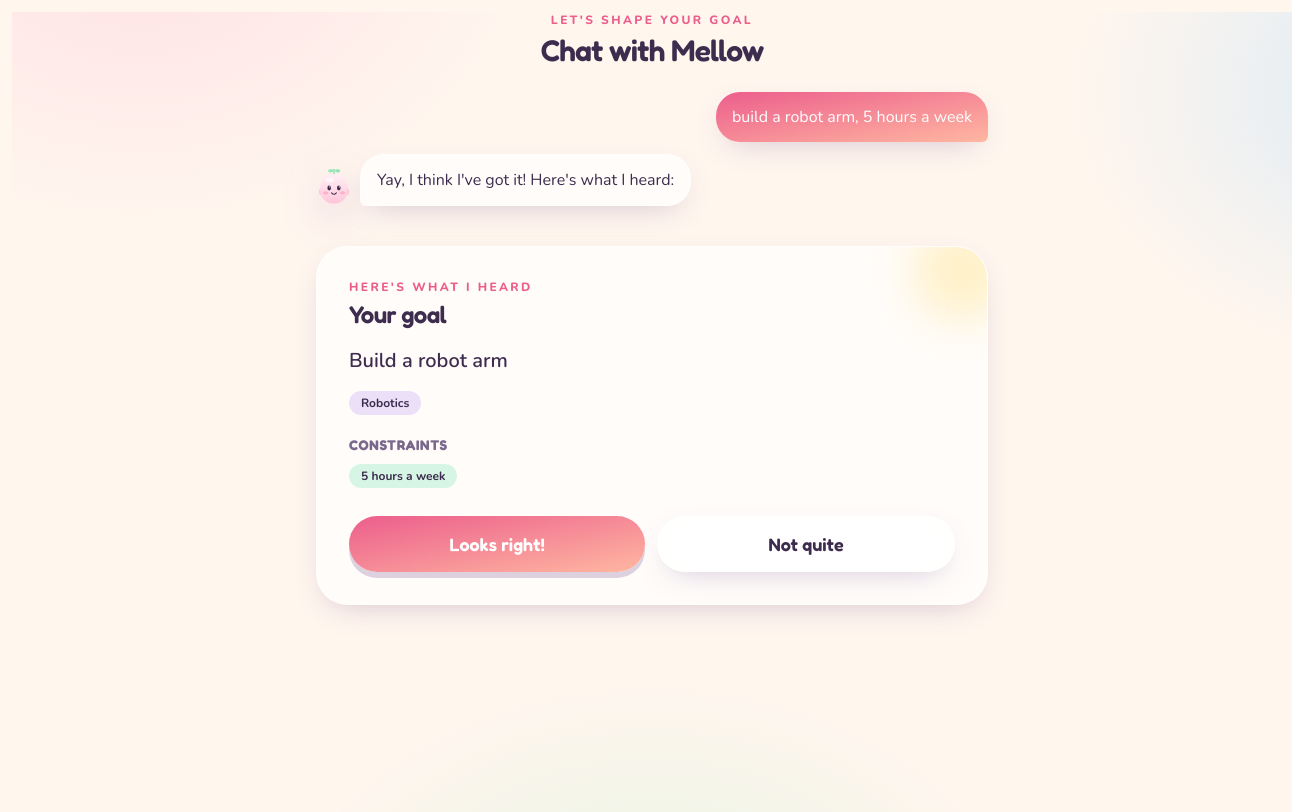
goal drafts › clears the draft once the goal is confirmed
This screenshot has width=1292, height=812.
Click the button "Looks right!" at [497, 544], box [349,516,645,572]
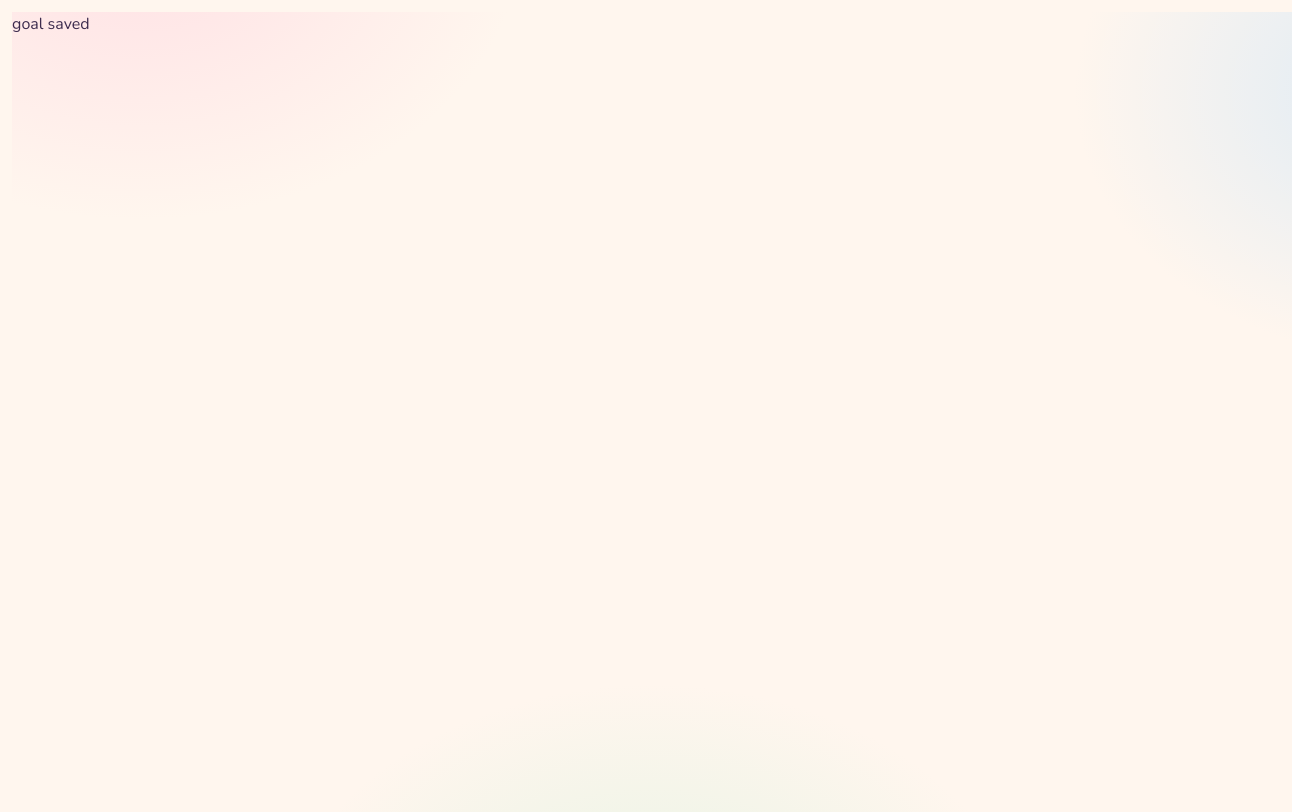
Now the text "goal saved" is shown, box [12,13,90,35]
